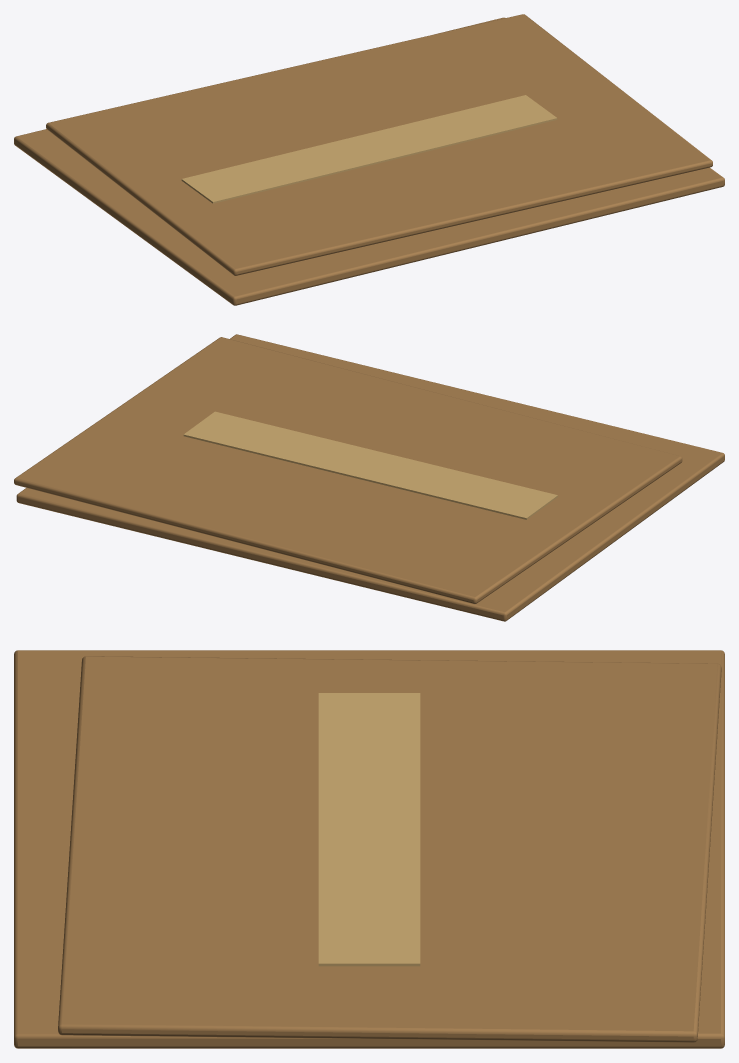
Rendered from item_card_sheet_b.fbx.
3 views of the same model, one above another, from view 1: azimuth 30°, elevation 25°; view 2: azimuth 150°, elevation 25°; view 3: azimuth 270°, elevation 25° (orthographic). The views are drawn at different scales.
Visible parts, largest first — view 1: item_card_sheet_b; view 2: item_card_sheet_b; view 3: item_card_sheet_b.
Part boxes in pixels (bbox=[...]): item_card_sheet_b: bbox=[14, 14, 724, 305]; item_card_sheet_b: bbox=[14, 334, 724, 621]; item_card_sheet_b: bbox=[14, 650, 724, 1048].
Size of the model in its own units: 0.4602 by 0.0155 by 0.35.
